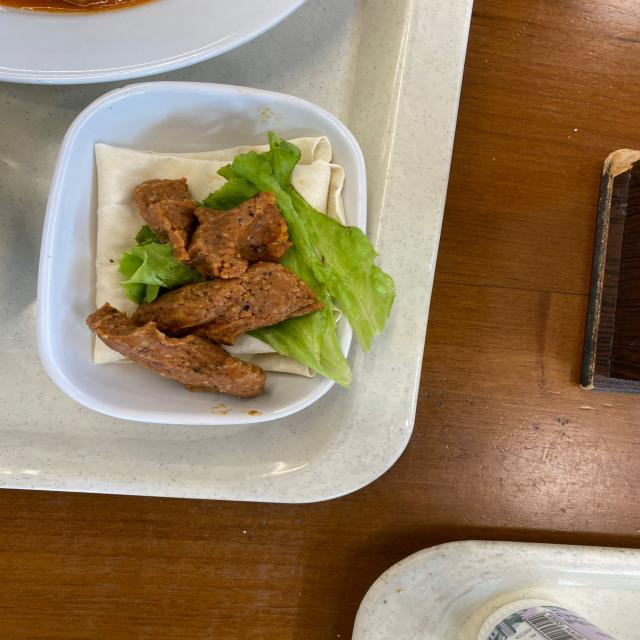yan_yemek: (77, 87, 356, 434)
